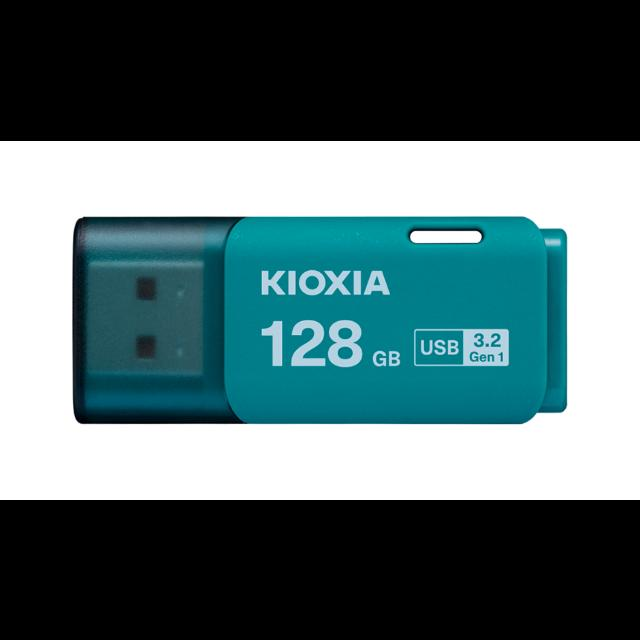USB-Flash-Drive: (70, 214, 569, 425)
